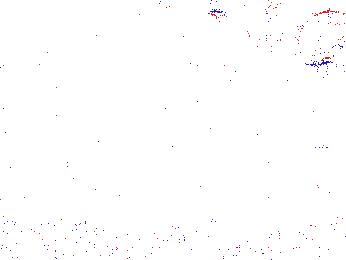moon jellyfish: (278, 69, 345, 150), (149, 71, 196, 153), (205, 10, 253, 74), (160, 3, 204, 71), (296, 11, 346, 66), (263, 2, 334, 40)
